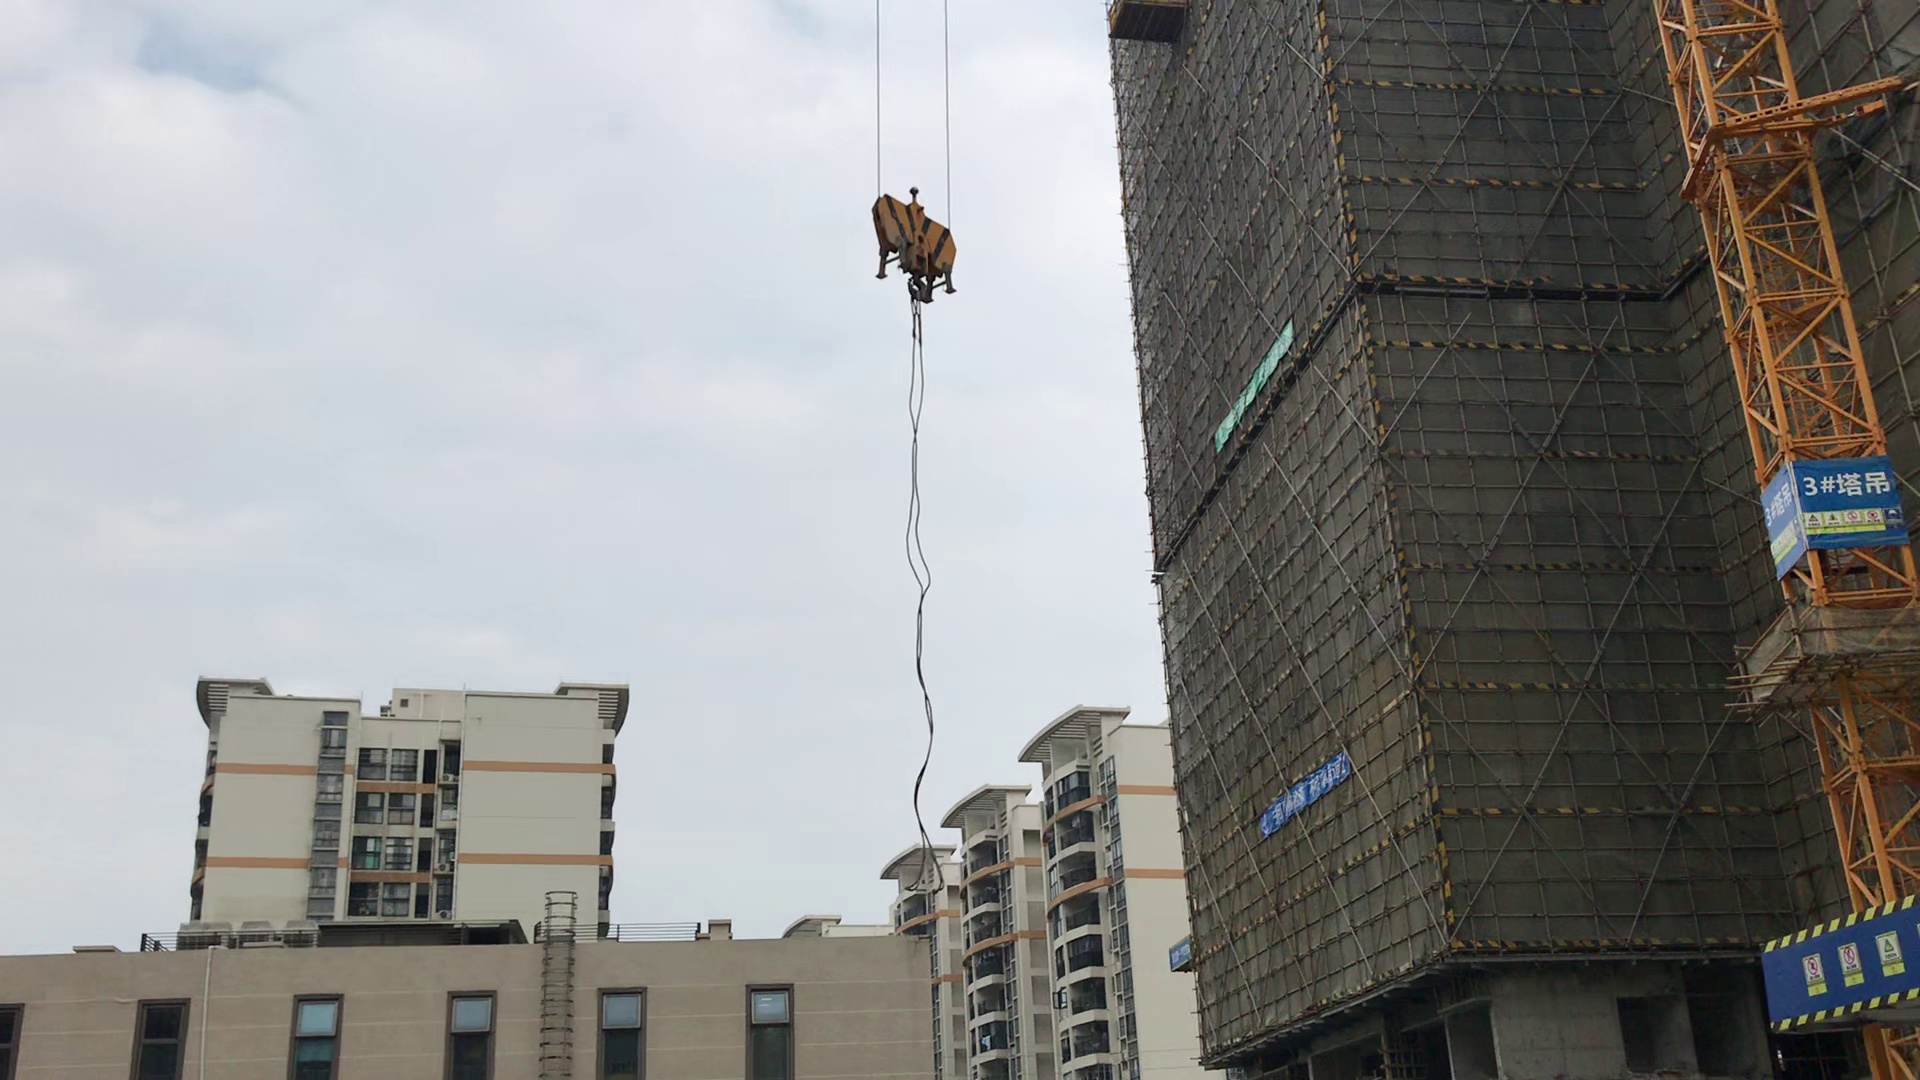hook: (872, 189, 961, 309)
slogan: (1215, 324, 1283, 454), (1793, 939, 1920, 1001), (1259, 757, 1352, 831), (1801, 506, 1888, 539)
